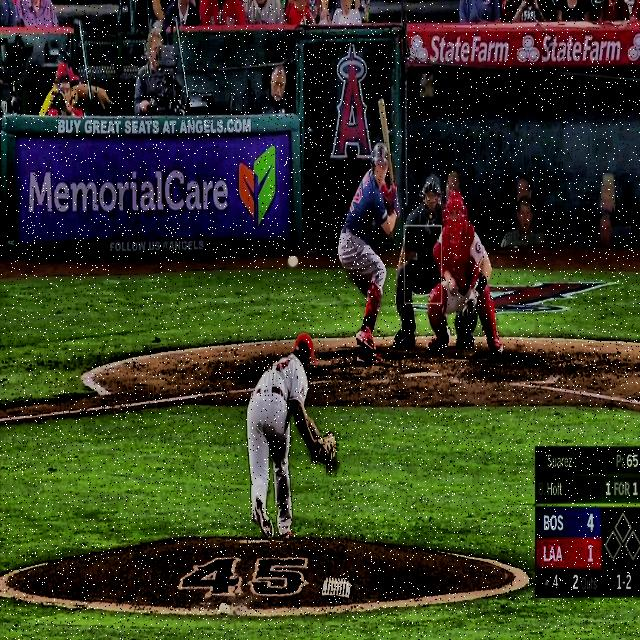baseball: (287, 256, 298, 269)
